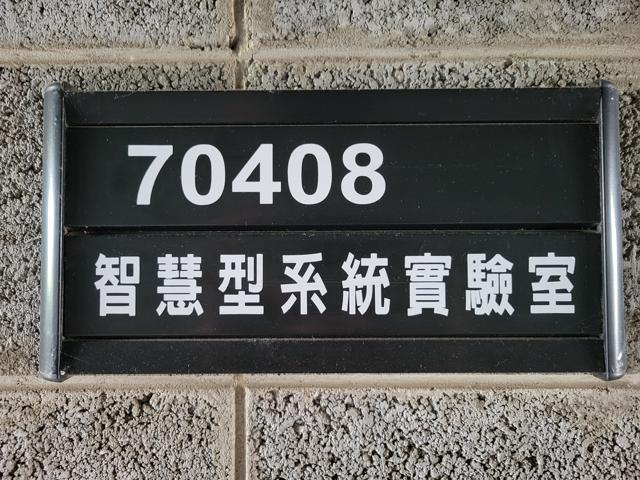doorplate: (35, 74, 633, 390)
